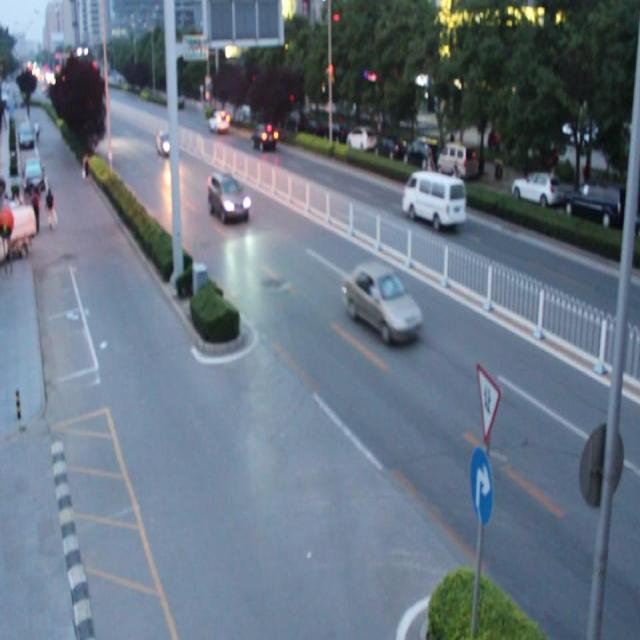car: (343, 262, 422, 346), (206, 171, 250, 224), (250, 121, 275, 148), (156, 129, 179, 158), (208, 108, 229, 131)
truck: (400, 170, 464, 232)
